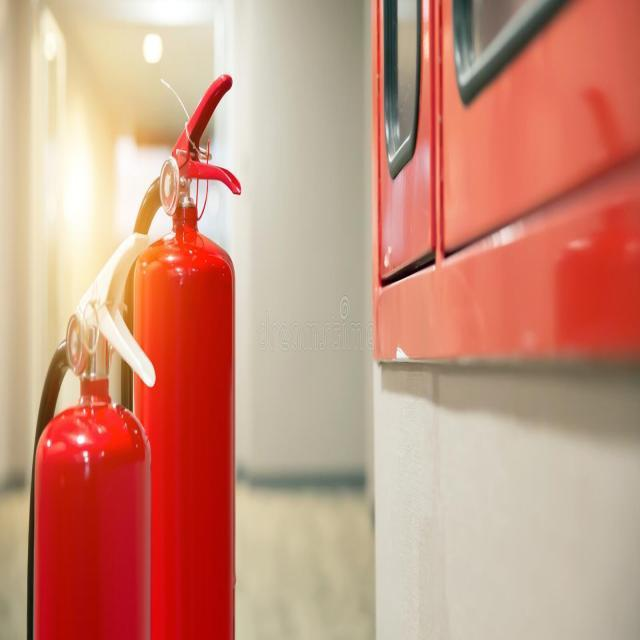fire_extinguisher: (116, 70, 244, 640), (22, 227, 160, 639)
